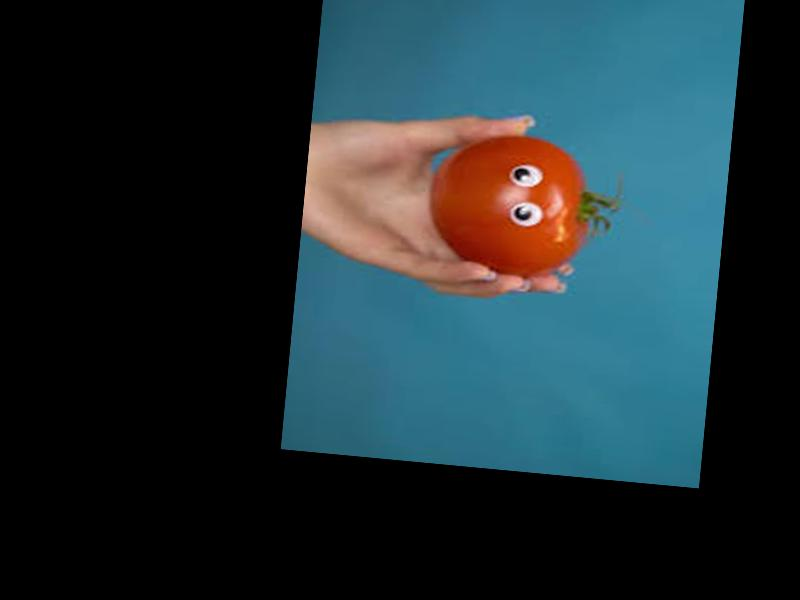Tomato: (422, 126, 598, 283)
